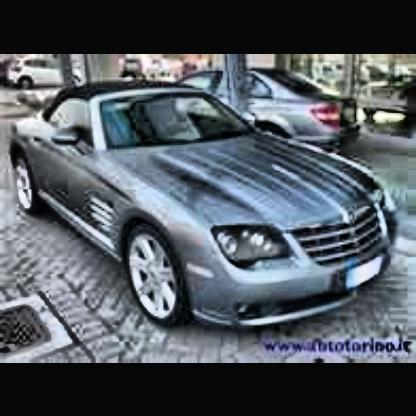Chrysler Crossfire Convertible 2008: (9, 81, 401, 333)
